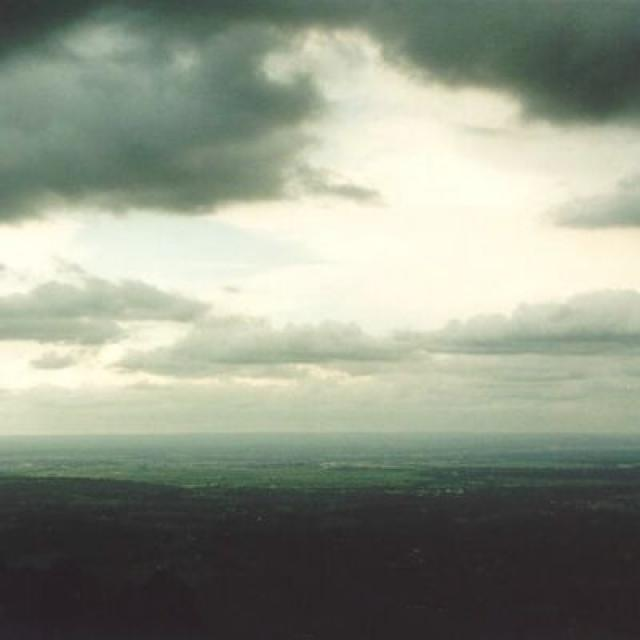Sc: (1, 1, 640, 397)
